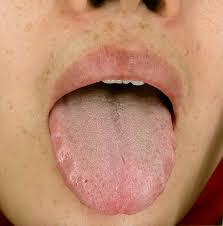baitaishe: (48, 92, 177, 216)
